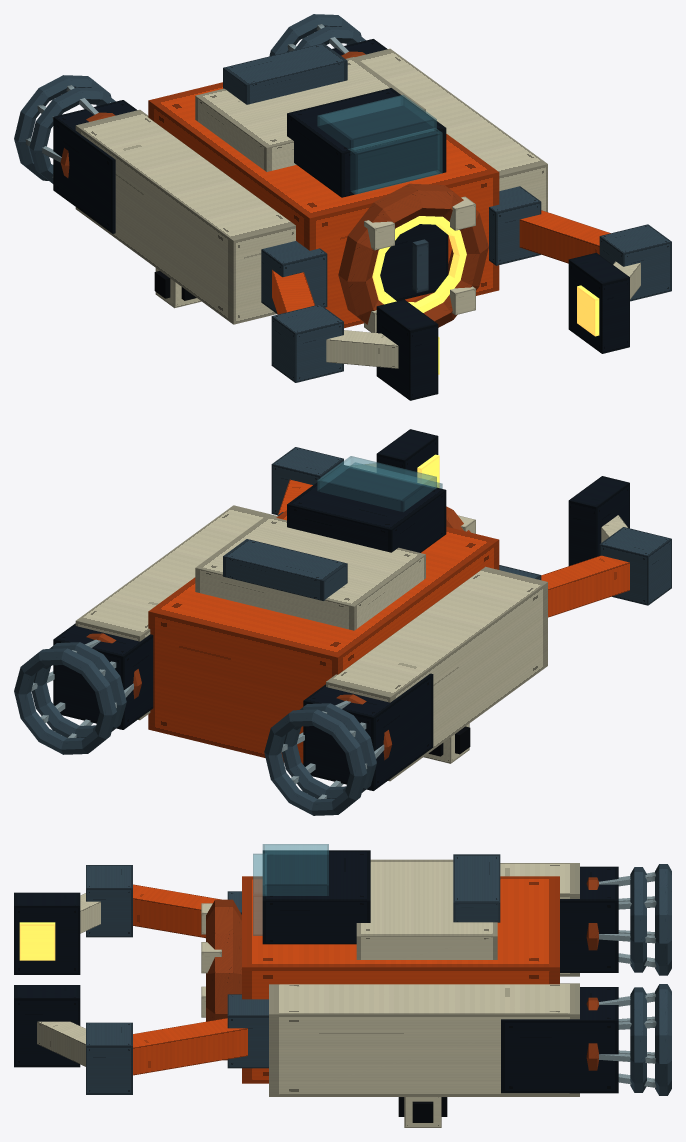
The model's file is ship_04_chargingtug.glb.
3 views of the same model, one above another, from view 1: azimuth 30°, elevation 25°; view 2: azimuth 150°, elevation 25°; view 3: azimuth 270°, elevation 25° (orthographic).
Visible parts, largest first — view 1: Ship_04_ChargingTug_Hull / module; view 2: Ship_04_ChargingTug_Hull / module; view 3: Ship_04_ChargingTug_Hull / module.
Boxes of the visible parts, x1,y1,x2,y2 form: Ship_04_ChargingTug_Hull / module: [14, 14, 671, 400]; Ship_04_ChargingTug_Hull / module: [14, 429, 671, 815]; Ship_04_ChargingTug_Hull / module: [14, 844, 671, 1127].
Size of the model in its own units: 3.1 by 1.56 by 4.76.
Materials: 9 (9 with a texture image).
